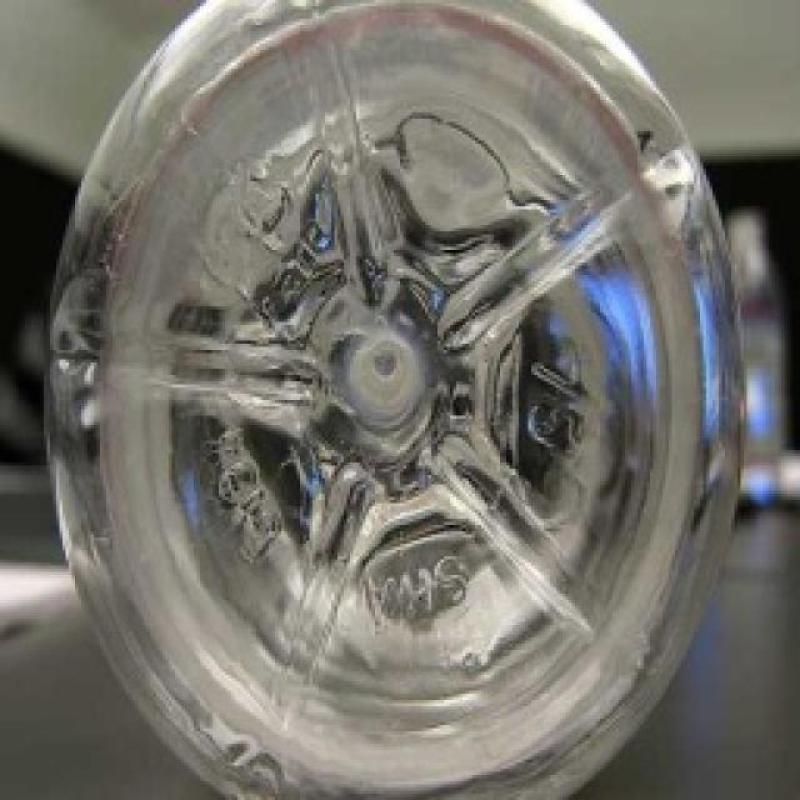botella: (42, 0, 748, 800)
